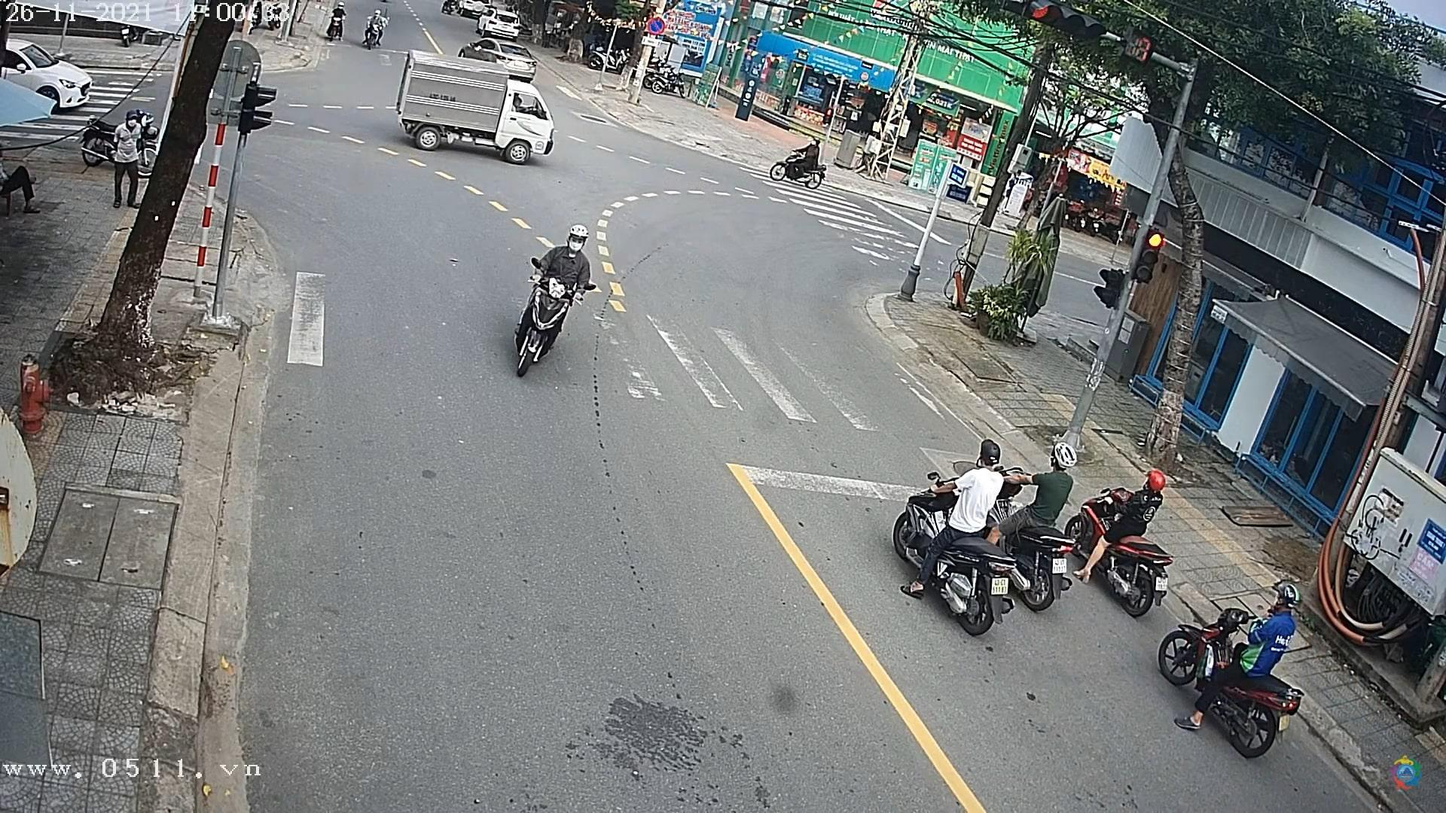car: (460, 41, 542, 77)
motorbike: (1169, 604, 1303, 761), (1069, 474, 1181, 618), (902, 528, 1019, 637), (511, 268, 582, 380), (769, 147, 830, 194)
truck: (395, 56, 560, 163)
